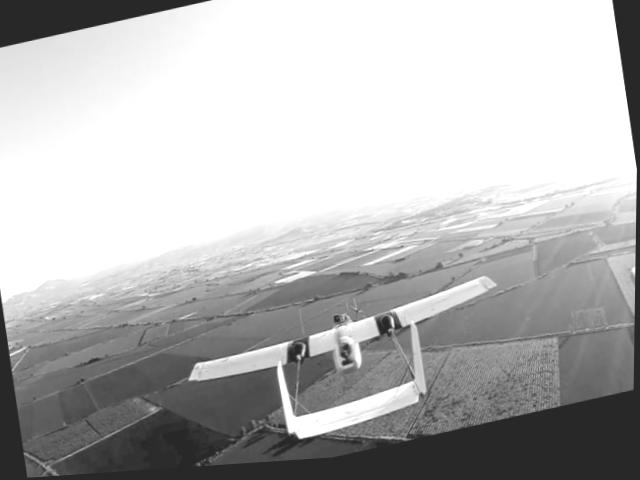hedef: (188, 251, 509, 459)
